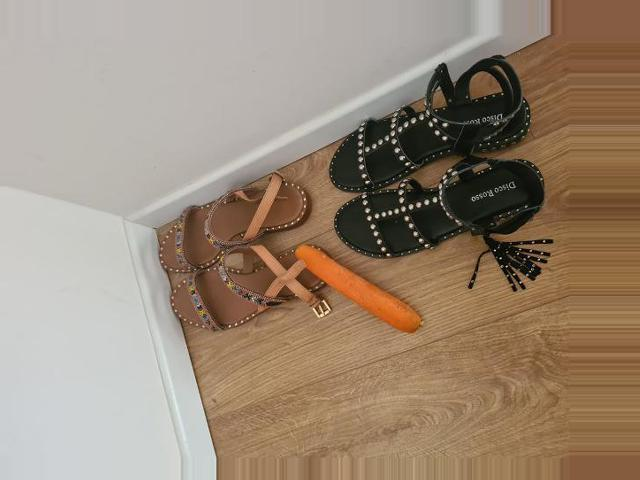carrot: (295, 245, 422, 330)
